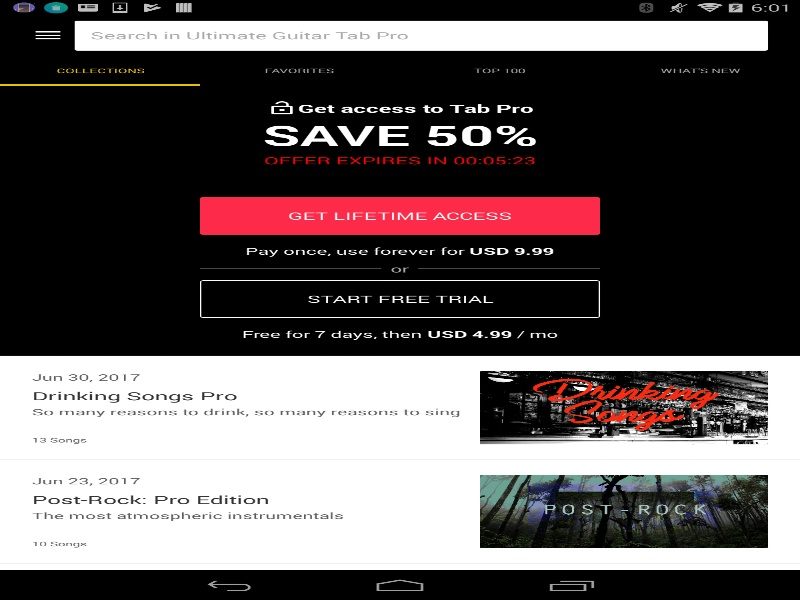Button: (200, 197, 600, 234), (200, 280, 600, 317), (10, 15, 85, 55)
Input: (85, 23, 762, 48)
